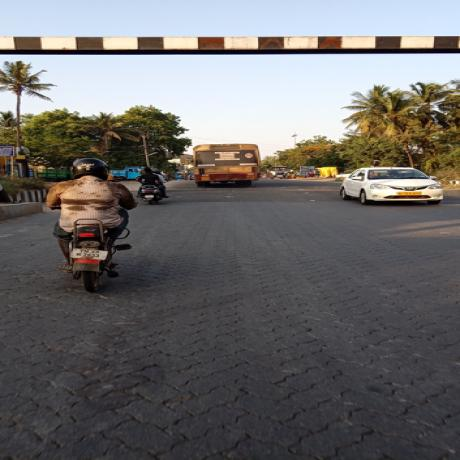Speed Bump: (164, 186, 332, 190)
